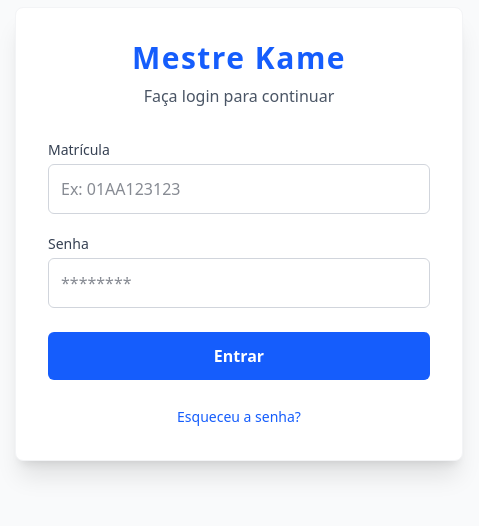
it: Login › should display generic error message when no specific message is provided
The width and height of the screenshot is (479, 526).
Type "joao123" into the field labelled "Matrícula" at (239, 189), box [48,164,430,214]
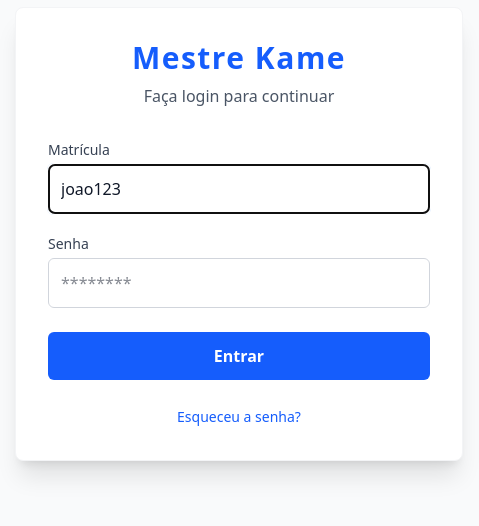
Type "senha123" into the password field labelled "Senha" at (239, 283), box [48,258,430,308]
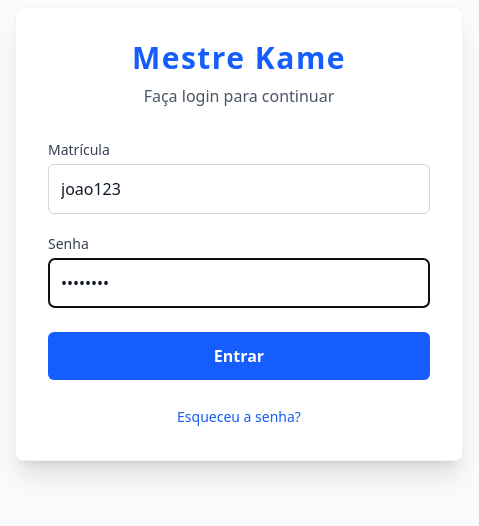
Click the button "Entrar" at (239, 356), box [48,332,430,380]
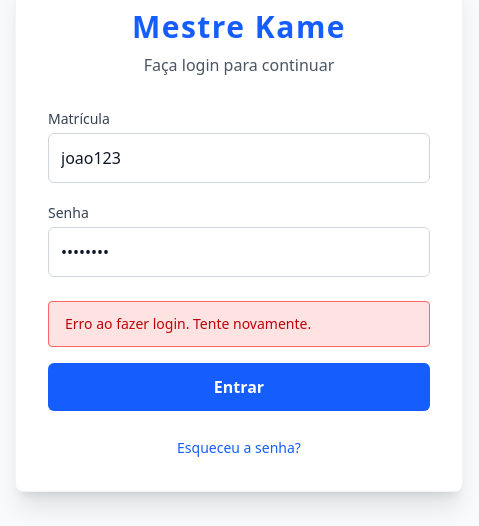
Expected: the text "Erro ao fazer login. Tente novamente." is shown, [65,314,311,333]
